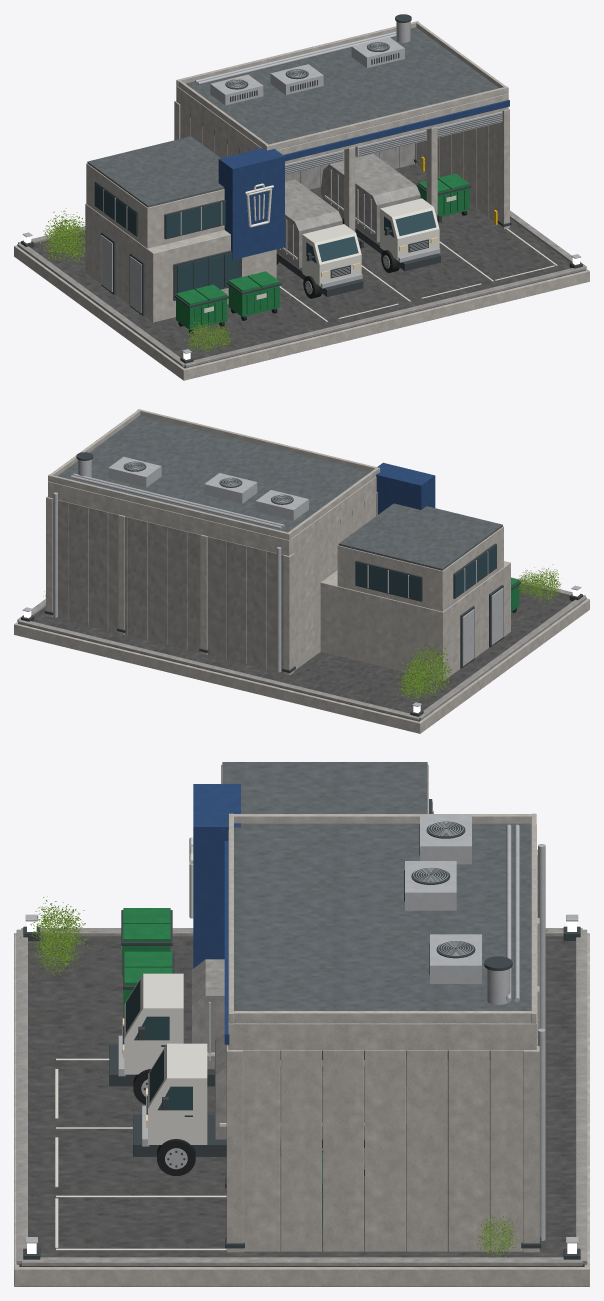
File: recoleccion_basura.fbx
The picture shows the model from 3 angles, top to bottom: view 1: azimuth 30°, elevation 25°; view 2: azimuth 150°, elevation 25°; view 3: azimuth 270°, elevation 25°; orthographic projection. The views are drawn at different scales.
Parts seen in each view (by area): view 1: Solar · Asfalto industrial, Nave abierta · Prefabricado caliza, Nave abierta · Membrana bituminosa, Administración · Prefabricado caliza, Solar · Prefabricado caliza, Administración · Membrana bituminosa, Administración · Revestimiento azul marino, Ventilación y servicios · Inox cepillado, Solar · Loseta mineral, Recolector 2 · Loseta mineral, Administración · Cristal de cabina, Recolector 1 · Loseta mineral (+22 smaller); view 2: Nave abierta · Loseta mineral, Nave abierta · Prefabricado caliza, Administración · Prefabricado caliza, Nave abierta · Membrana bituminosa, Solar · Asfalto industrial, Solar · Prefabricado caliza, Administración · Membrana bituminosa, Ventilación y servicios · Inox cepillado, Solar · Loseta mineral, Administración · Revestimiento azul marino, Administración · Cristal de cabina, Administración · Inox cepillado (+5 smaller); view 3: Nave abierta · Prefabricado caliza, Solar · Asfalto industrial, Nave abierta · Membrana bituminosa, Solar · Loseta mineral, Solar · Prefabricado caliza, Ventilación y servicios · Inox cepillado, Administración · Membrana bituminosa, Administración · Revestimiento azul marino, Recolector 2 · Esmalte blanco flota, Recolector 1 · Esmalte blanco flota, Recolector 1 · Loseta mineral, Ventilación y servicios · Perfilería antracita (+15 smaller).
Boxes of the visible parts, x1,y1,x2,y2 form: Solar · Asfalto industrial: (31,164,585,368); Nave abierta · Prefabricado caliza: (174,21,509,231); Nave abierta · Membrana bituminosa: (186,27,498,144); Administración · Prefabricado caliza: (85,163,276,322); Solar · Prefabricado caliza: (14,245,589,380); Administración · Membrana bituminosa: (87,136,224,207); Administración · Revestimiento azul marino: (218,148,284,259); Ventilación y servicios · Inox cepillado: (195,21,410,105); Solar · Loseta mineral: (17,210,586,367); Recolector 2 · Loseta mineral: (320,153,420,242); Administración · Cristal de cabina: (94,184,239,293); Recolector 1 · Loseta mineral: (276,179,342,268); Nave abierta · Loseta mineral: (52,499,283,673); Nave abierta · Prefabricado caliza: (46,409,380,675); Administración · Prefabricado caliza: (320,526,510,681); Nave abierta · Membrana bituminosa: (57,415,370,532); Solar · Asfalto industrial: (18,584,572,721); Solar · Prefabricado caliza: (14,598,589,733); Administración · Membrana bituminosa: (338,503,502,570); Ventilación y servicios · Inox cepillado: (53,456,308,672); Solar · Loseta mineral: (17,577,586,720); Administración · Revestimiento azul marino: (369,462,435,514); Administración · Cristal de cabina: (355,546,496,600); Administración · Inox cepillado: (367,551,503,666); Nave abierta · Prefabricado caliza: (226,813,539,1252); Solar · Asfalto industrial: (19,936,584,1266); Nave abierta · Membrana bituminosa: (234,823,531,1010); Solar · Loseta mineral: (16,928,587,1266); Solar · Prefabricado caliza: (14,933,589,1286); Ventilación y servicios · Inox cepillado: (405,815,545,1240); Administración · Membrana bituminosa: (222,762,427,813); Administración · Revestimiento azul marino: (193,784,240,968); Recolector 2 · Esmalte blanco flota: (148,1043,364,1144); Recolector 1 · Esmalte blanco flota: (124,973,214,1074); Recolector 1 · Loseta mineral: (191,959,224,1069); Ventilación y servicios · Perfilería antracita: (404,821,512,974).
Size of the model in its own units: 15.2 by 6.08 by 11.
19 materials, 7 textured.
